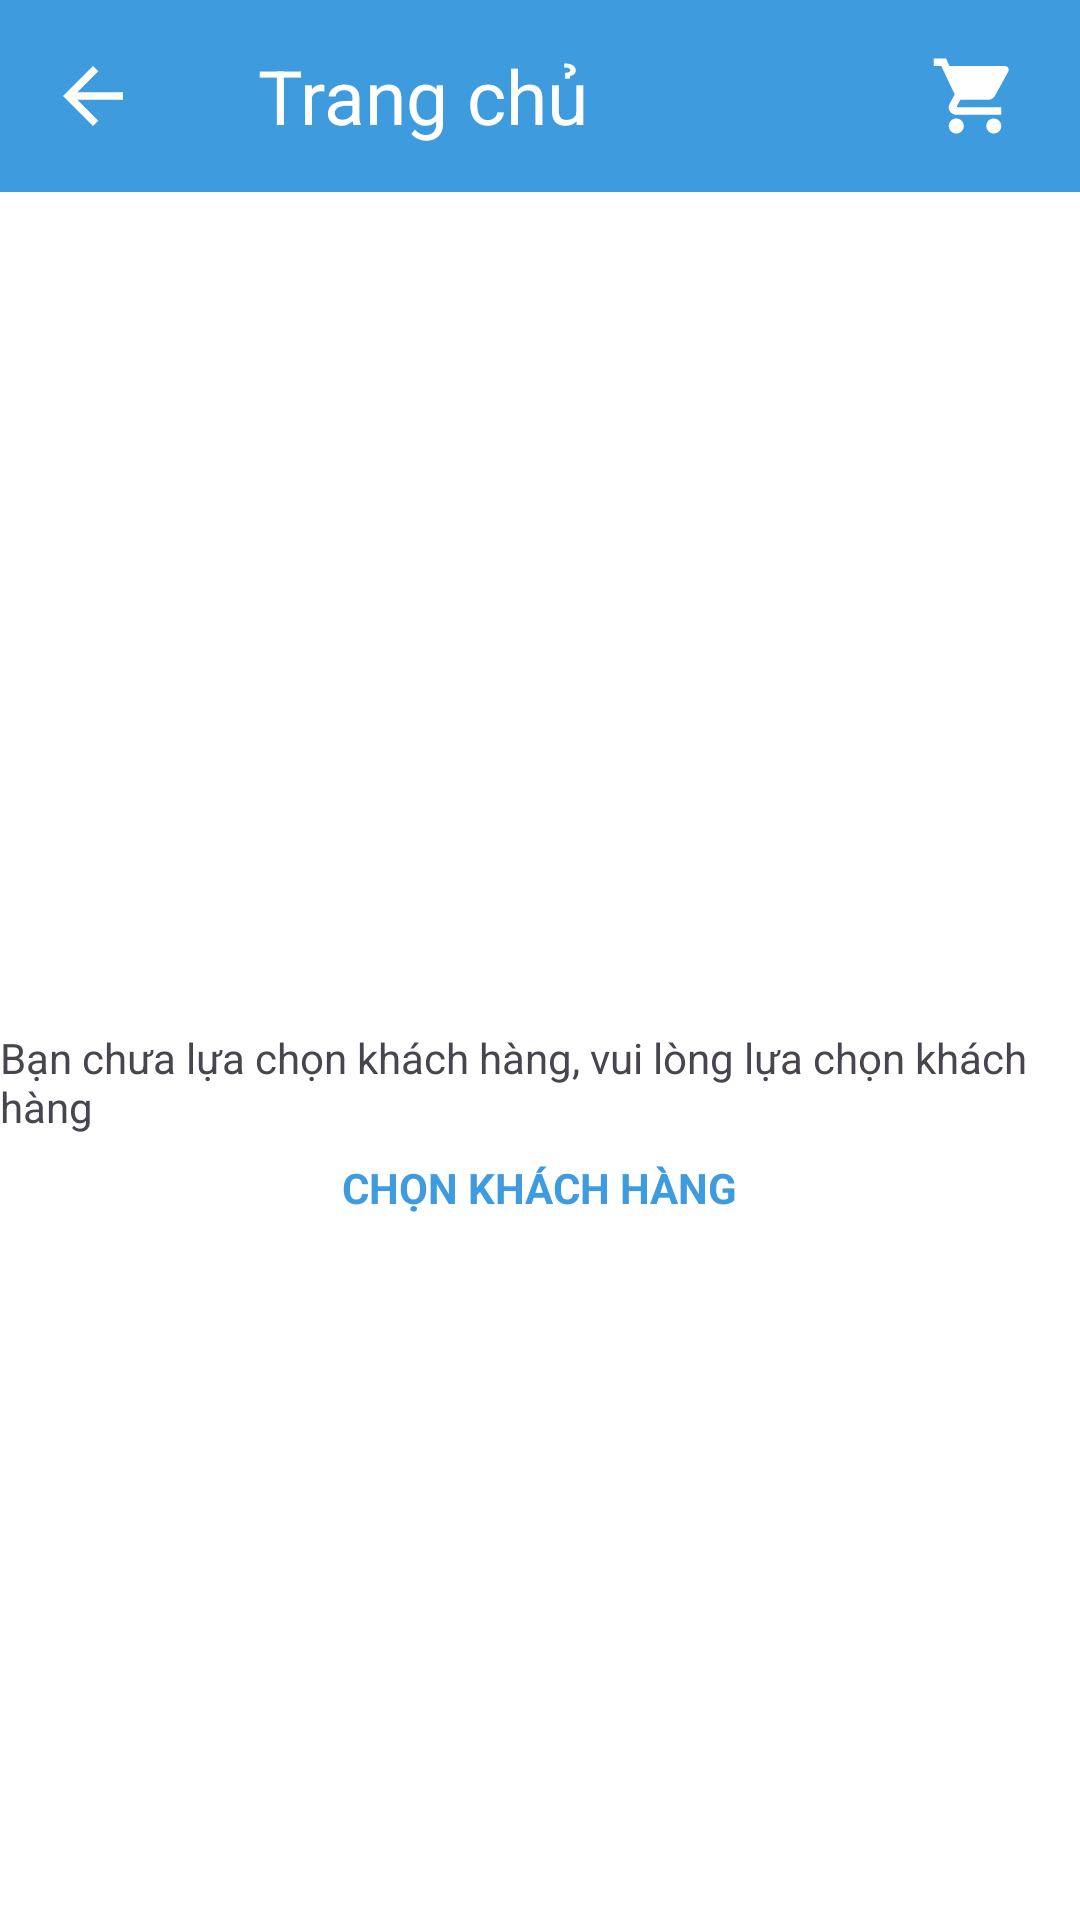

Icons on this 1080*1920 Android screen, each with its box as (x1,y1,x2,y2):
back: (63,66,123,126)
shopping cart: (933,58,1009,134)
